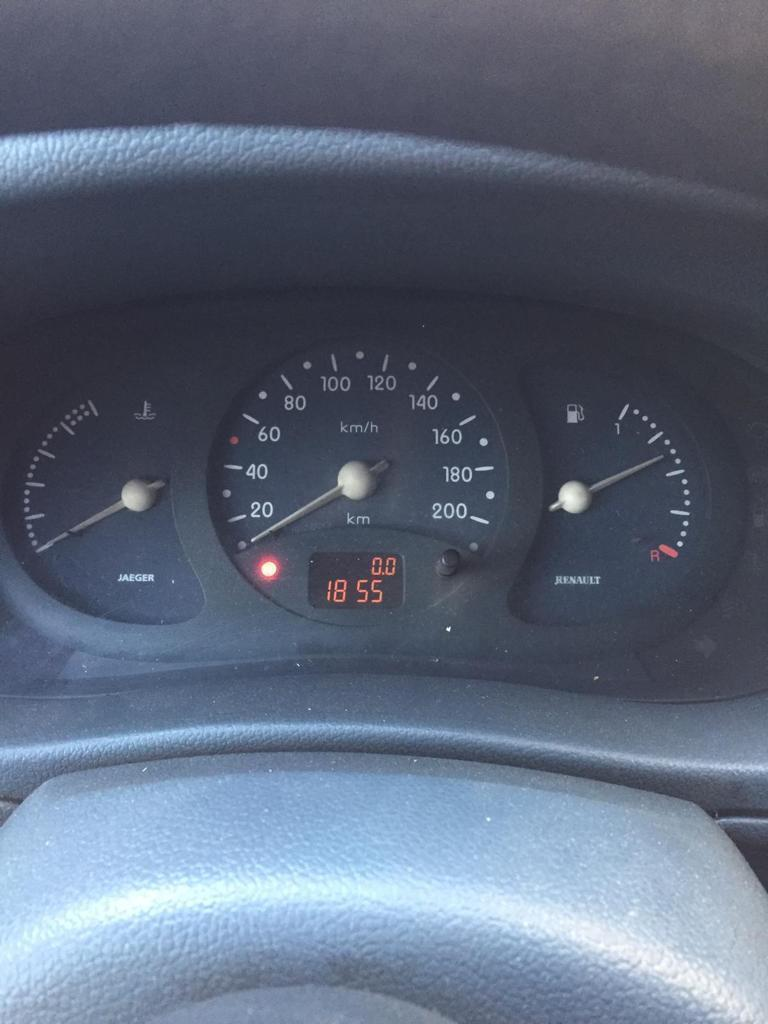,: (380, 571, 384, 575)
0: (385, 556, 396, 576), (371, 557, 382, 575)
1: (326, 579, 331, 600)
5: (370, 578, 382, 603), (355, 579, 368, 602)
8: (332, 579, 346, 602)
odometer: (305, 548, 406, 611)
